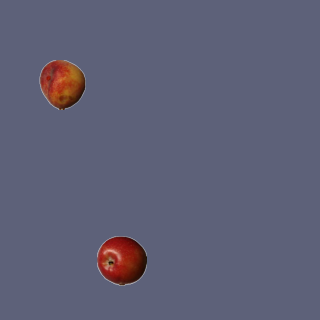Apple Braeburn: (96, 235, 146, 285)
Peach: (37, 59, 87, 109)
